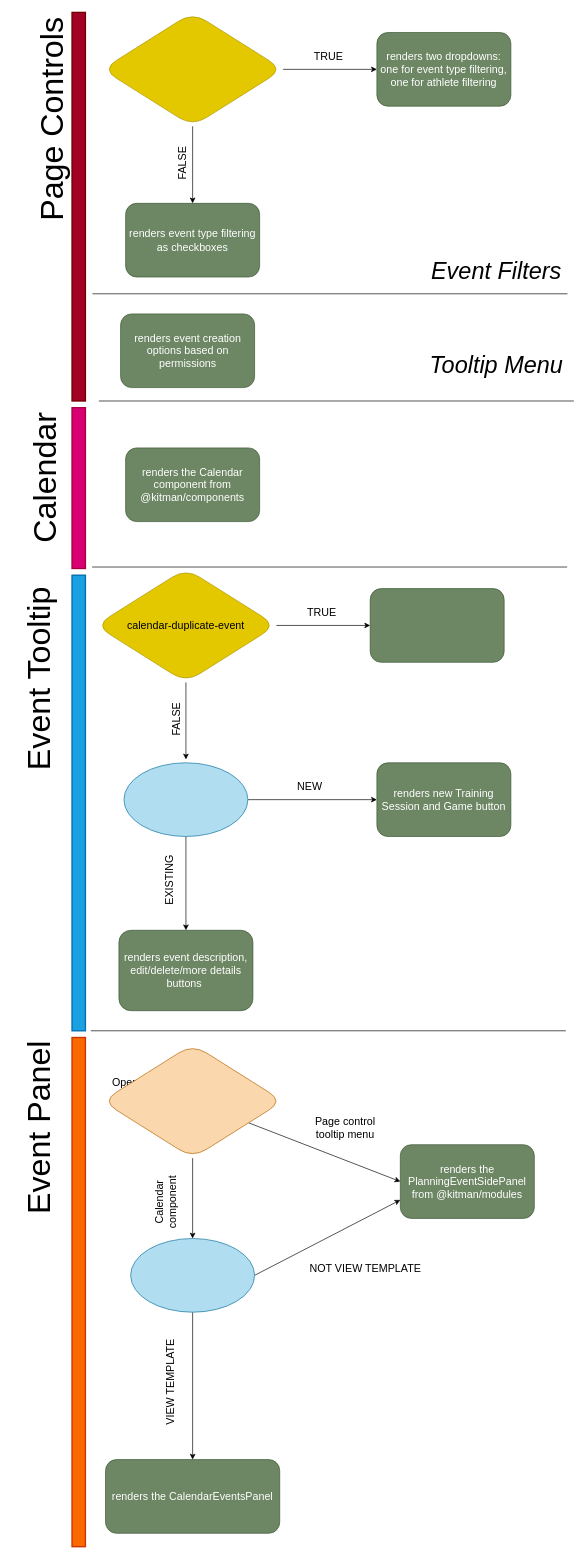
Some shapes in this 586 by 1558 pixel diagram are drawn without their labels. The box of each missing label's shape, as (x1, y1, x2, y2) in pixels:
Event type?: (123, 762, 248, 836)
Mode type?: (130, 1238, 255, 1312)
Open panel from:: (102, 1044, 283, 1158)
web-calendar-athlete-filter: (102, 12, 283, 126)
wiith correct permissions, renders 'Duplicate' button: (370, 588, 504, 662)
